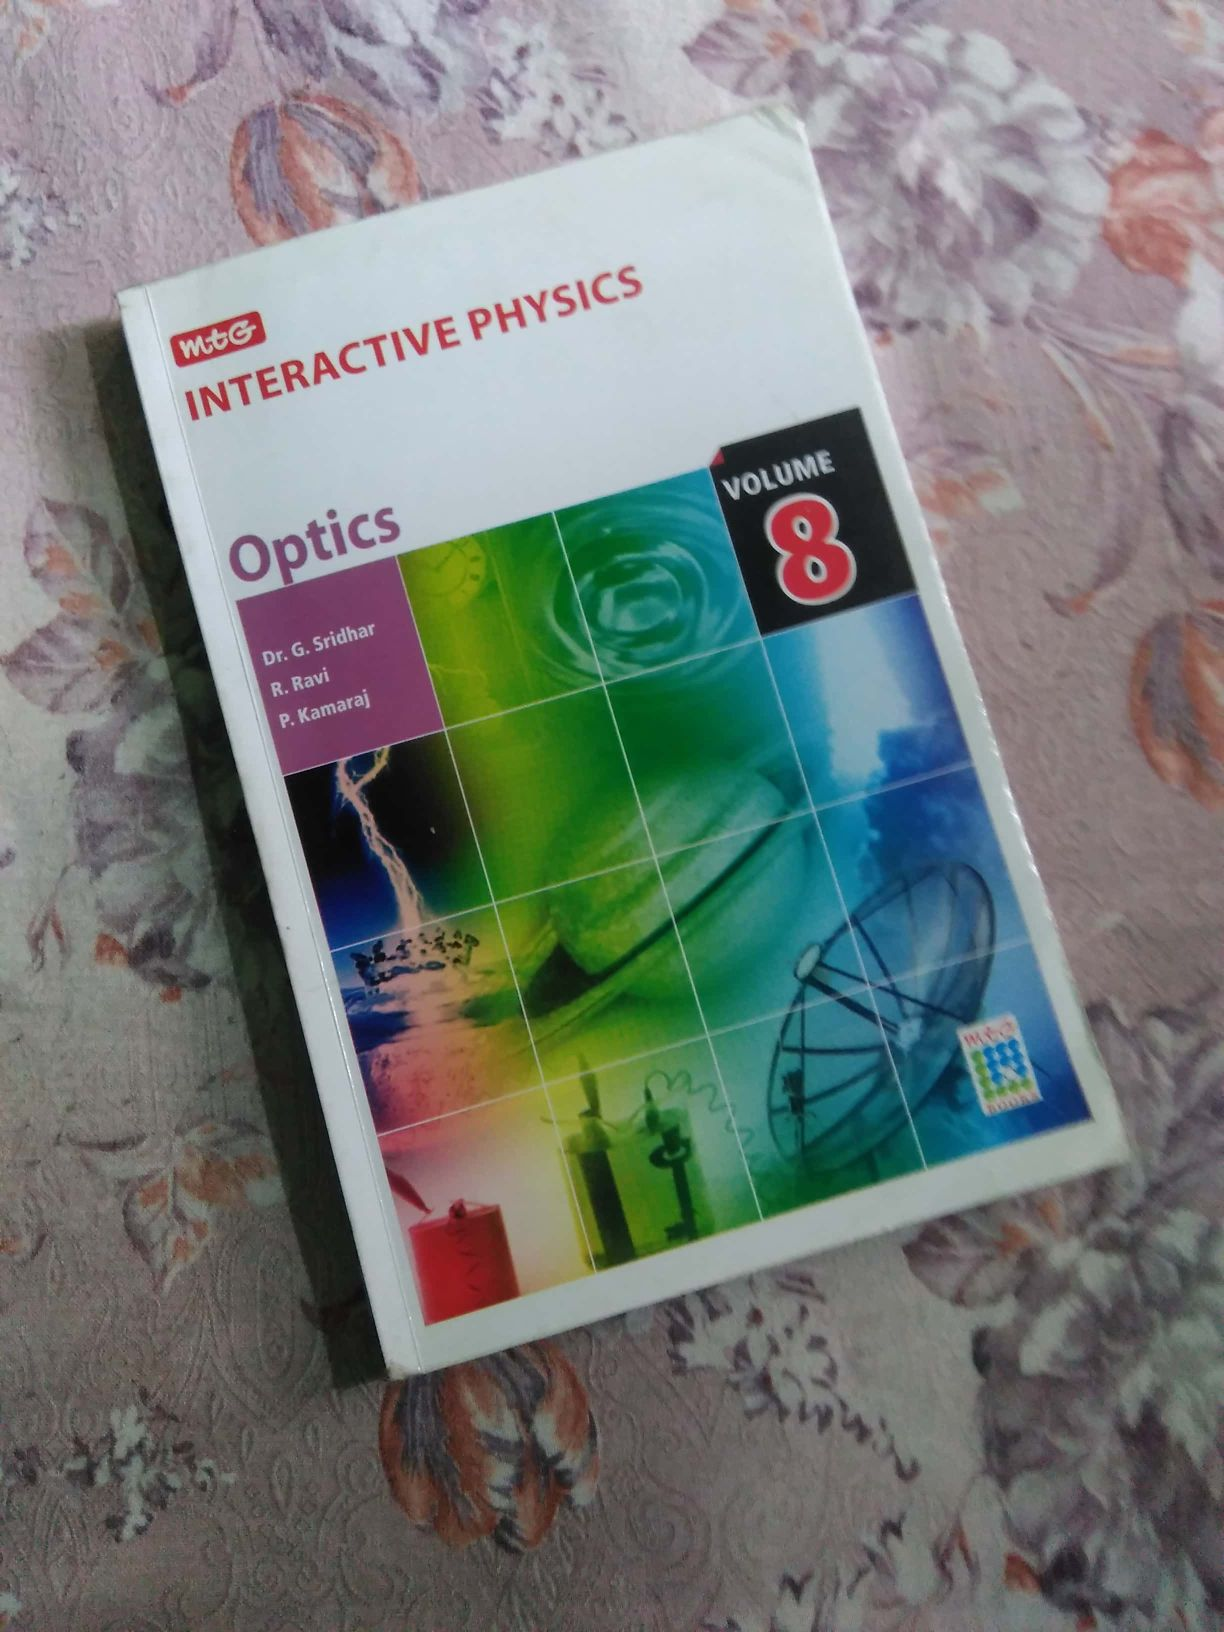optics: (126, 131, 1164, 1348)
